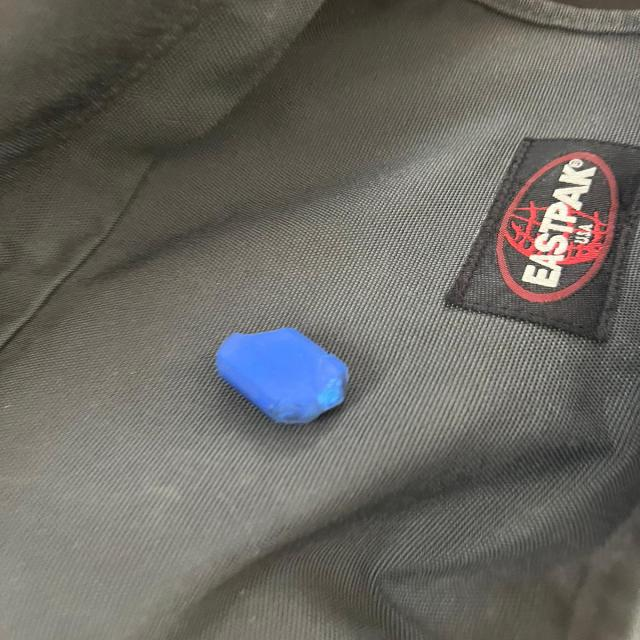eraser: (197, 309, 379, 446)
